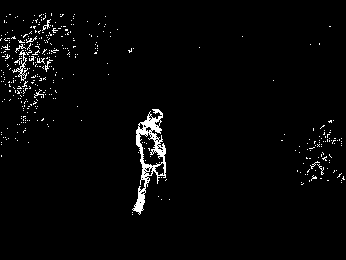person: (133, 105, 168, 217)
